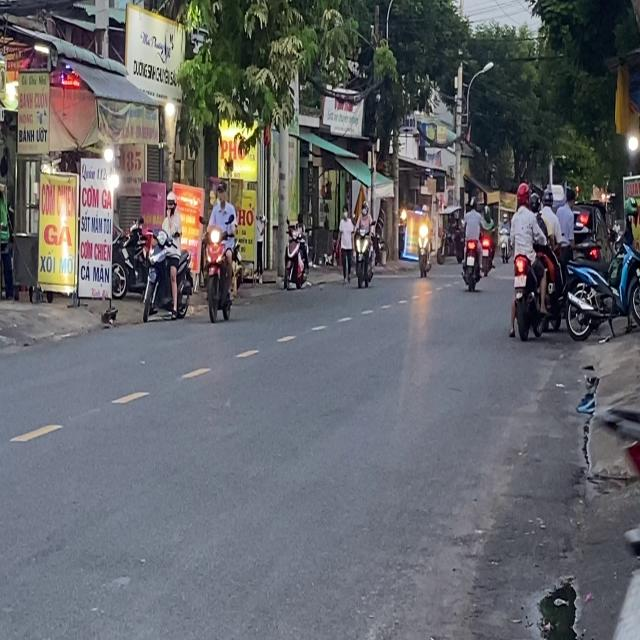helmet: (515, 182, 529, 206), (164, 191, 177, 216)
licenseplate: (141, 190, 193, 322), (507, 180, 546, 341), (202, 178, 240, 323)
motorcyclist: (215, 179, 228, 204)
nohelmet: (618, 568, 640, 639), (514, 274, 526, 286)
